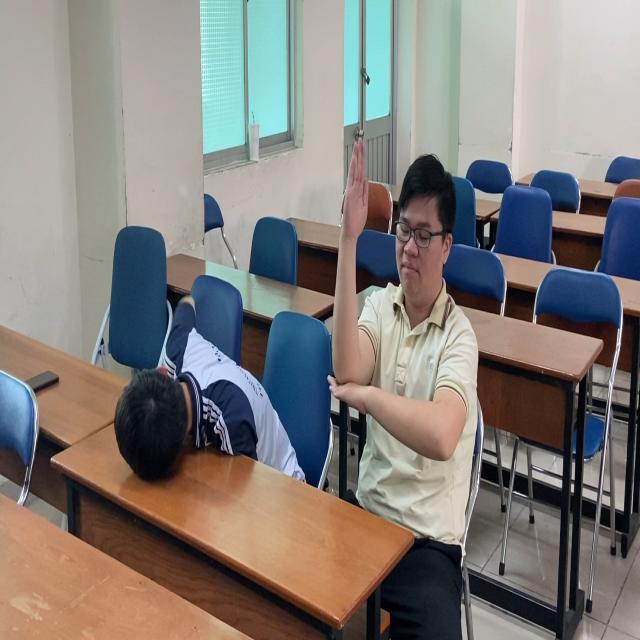raise_hand: (327, 124, 481, 495)
sleep: (103, 320, 329, 509)
